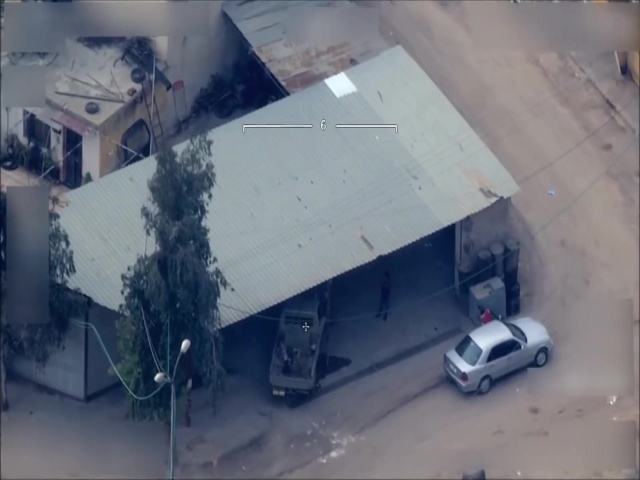person: (372, 267, 394, 324)
vehicle: (441, 313, 554, 392), (265, 296, 331, 399)
